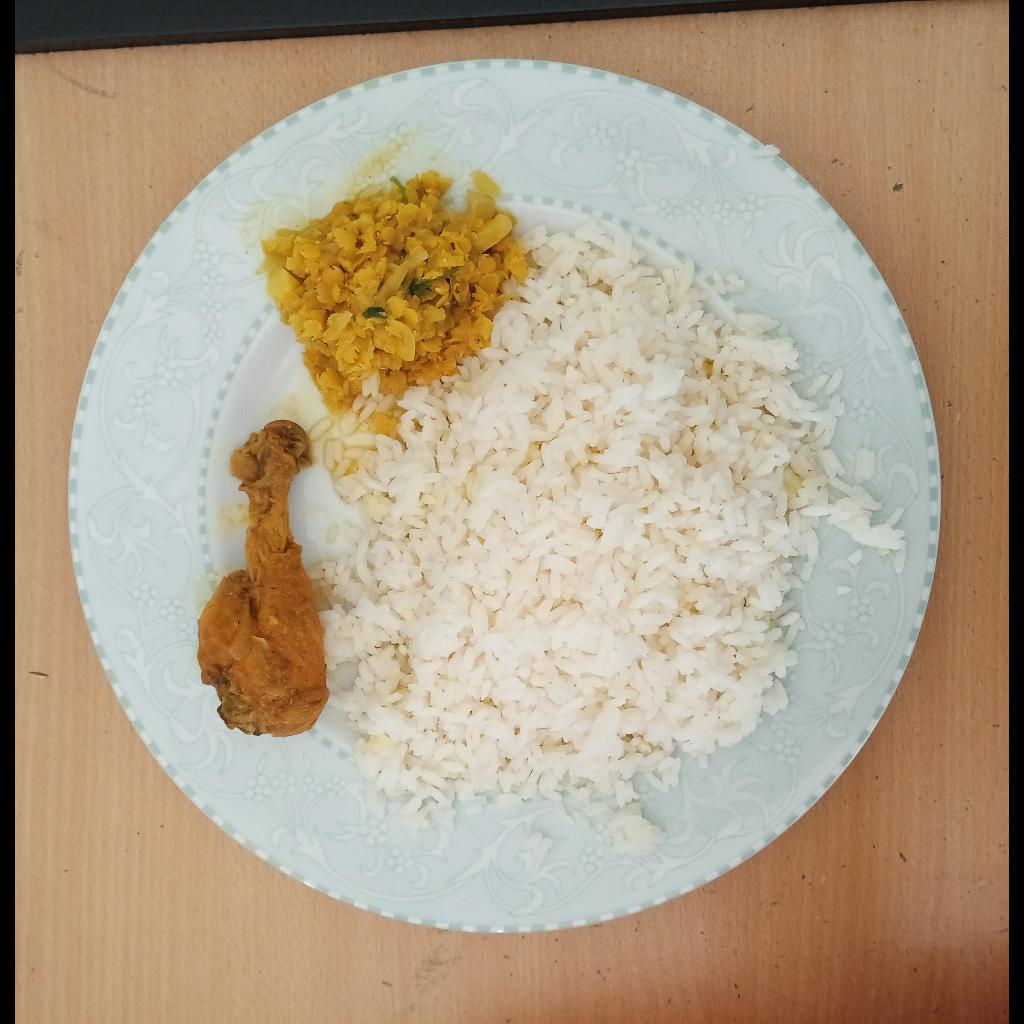chicken: (197, 420, 332, 738)
daal: (260, 177, 528, 416)
rice: (314, 221, 843, 828)
